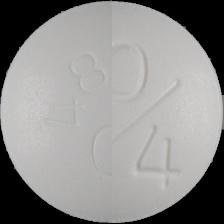64764-304: (0, 0, 224, 224)
